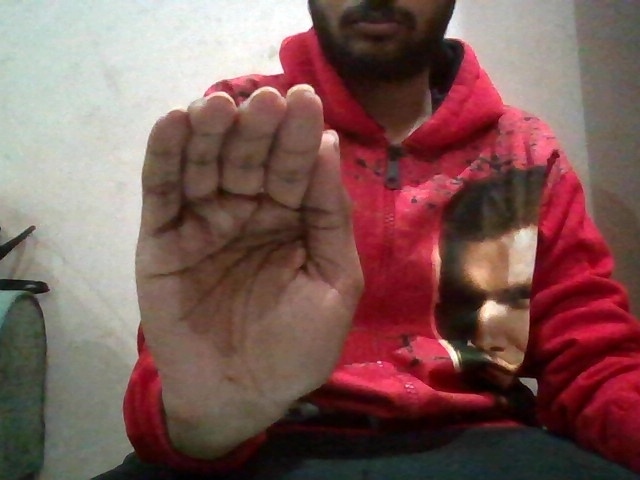C: (124, 73, 371, 430)
